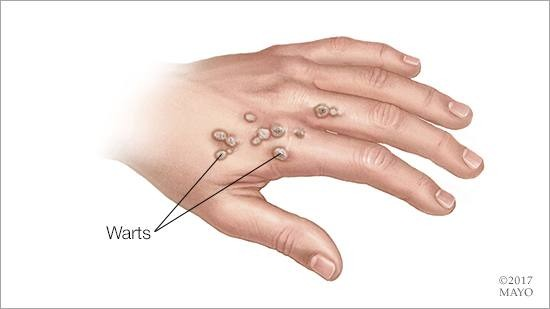Warts: (200, 96, 342, 165)
